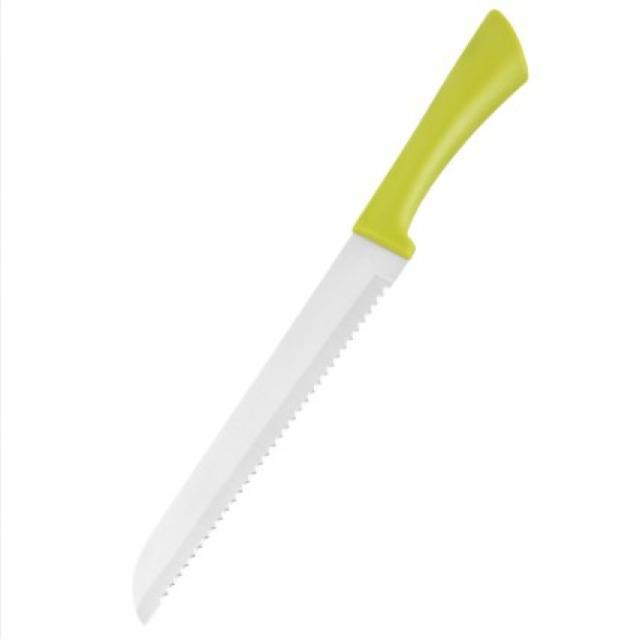Knife: (106, 16, 580, 636)
